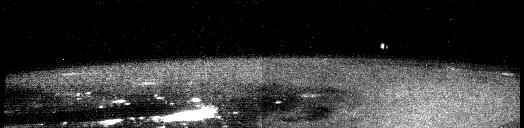positive: (378, 41, 390, 53)
